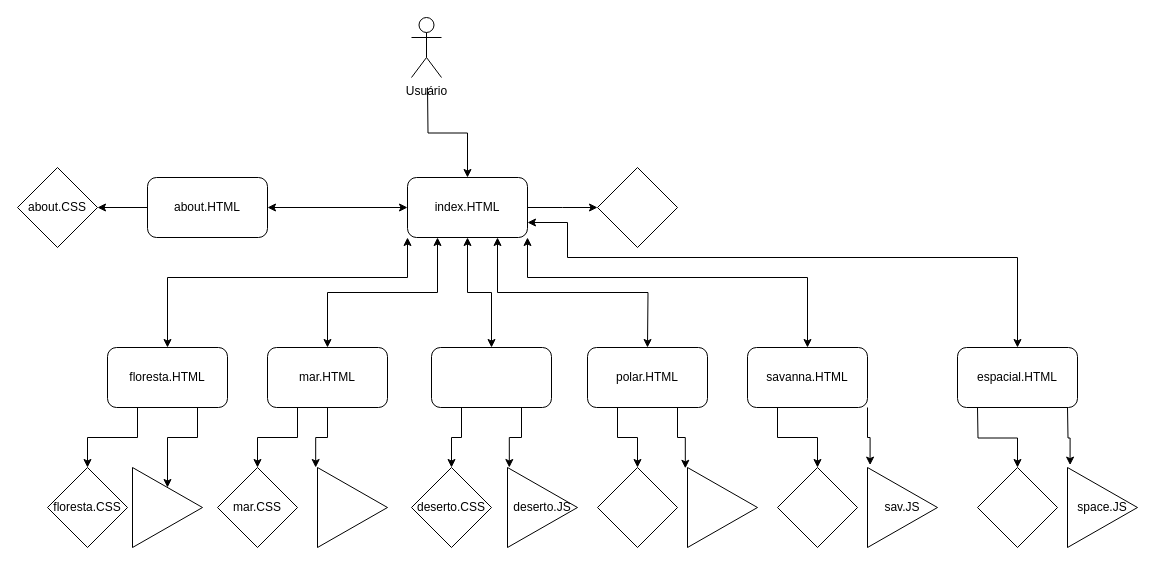
The diagram is 1155 pixels wide and 565 high, and some of its shapes have lost their labels. Here are the shapes that lost their labels. From the top down, the centre of each, then its label:
the point at 637,207: index.CSS
the point at 491,377: deserto.HTML
the point at 167,507: floresta.JS
the point at 352,507: mar.JS
the point at 637,507: polar.CSS
the point at 722,507: polar.JS
the point at 817,507: sav.CSS
the point at 1017,507: space.CSS
